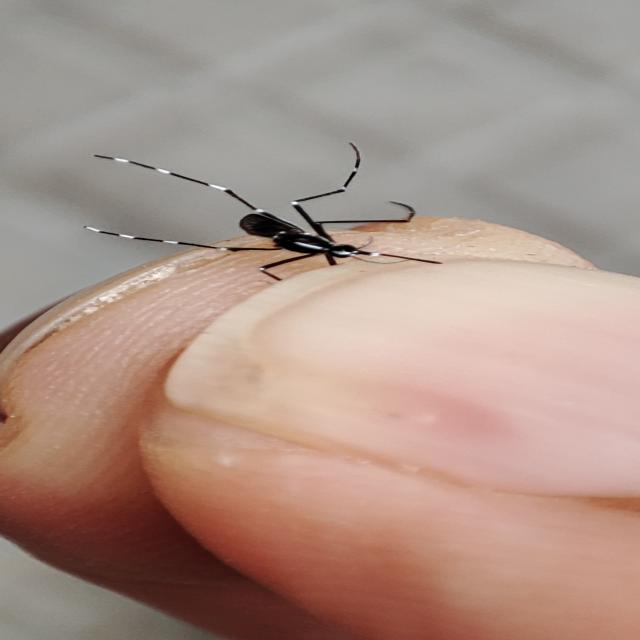albopictus: (68, 133, 440, 288)
